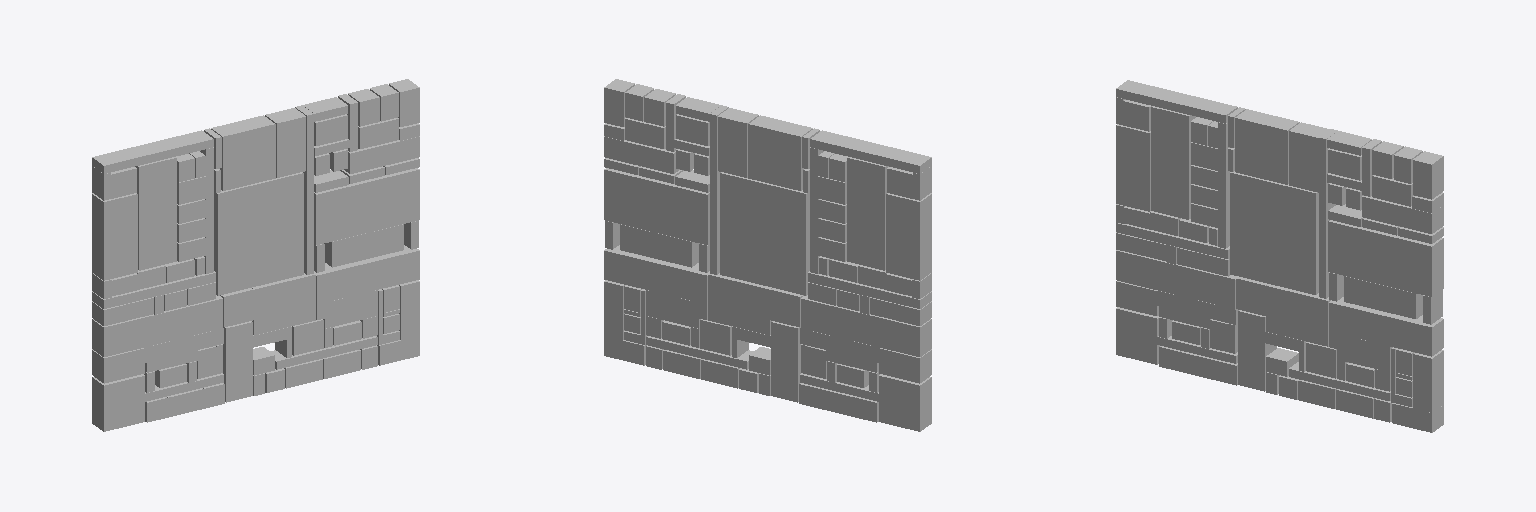
The model's file is floor_0_rooms.obj.
The picture shows the model from 3 angles: view 1: azimuth 30°, elevation 25°; view 2: azimuth 150°, elevation 25°; view 3: azimuth 330°, elevation 25°; orthographic projection.
Bounding box in the file's own units: 55.45 × 44.97 × 3.63.